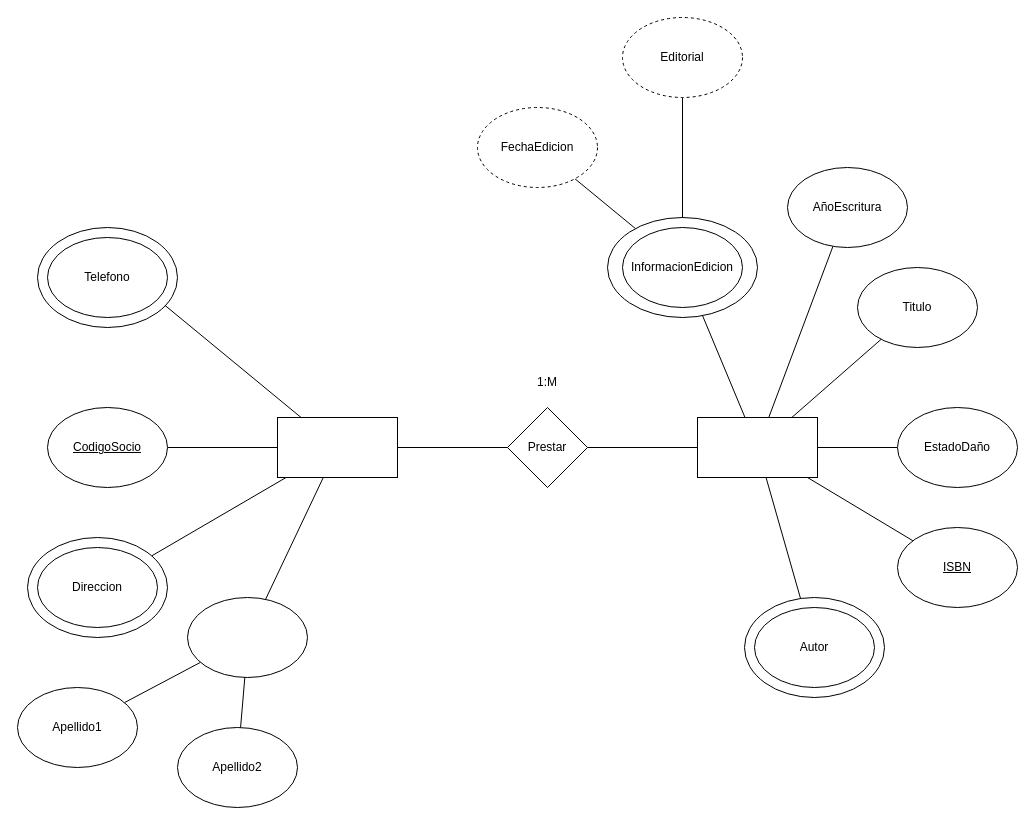
Image size: 1035x825. Some labels were removed from this diagram. The box of each missing label's shape, as (x1, y1, x2, y2) in pixels:
LIBRO: (696, 416, 818, 478)
Nombre: (186, 596, 308, 678)
PERSONA: (276, 416, 398, 478)
